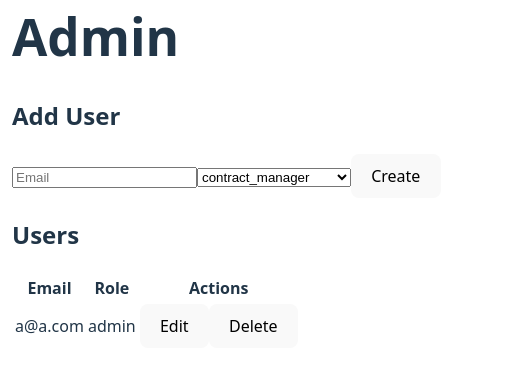
Test: AdminPage edit › persists user on successful edit
The width and height of the screenshot is (523, 365).
Expected: the text "a@a.com" is shown, [14,303,85,348]
Click the button "Edit": (174, 326) [140,304,209,348]
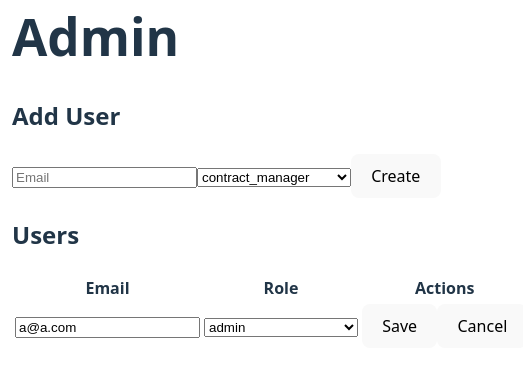
Replace the text in the field showing "a@a.com" with "b@b.com": (108, 327) [15,317,200,338]
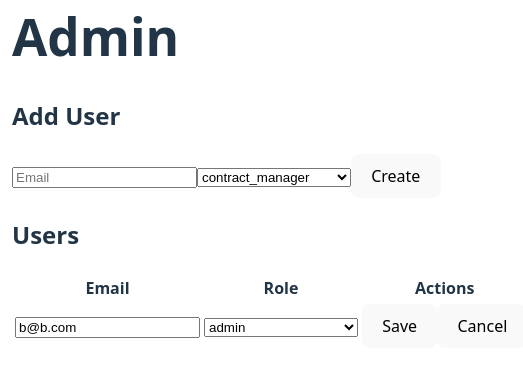
Click the button "Save": (400, 326) [362,304,437,348]
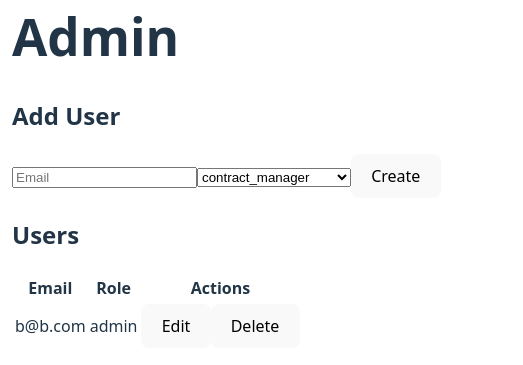
Now the text "b@b.com" is shown, box [14,303,87,348]
